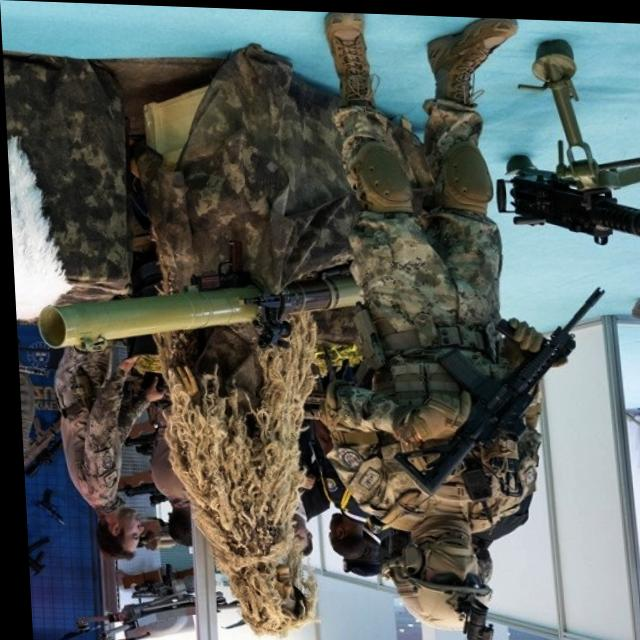poh_personel: (305, 9, 576, 640), (47, 289, 166, 560)
